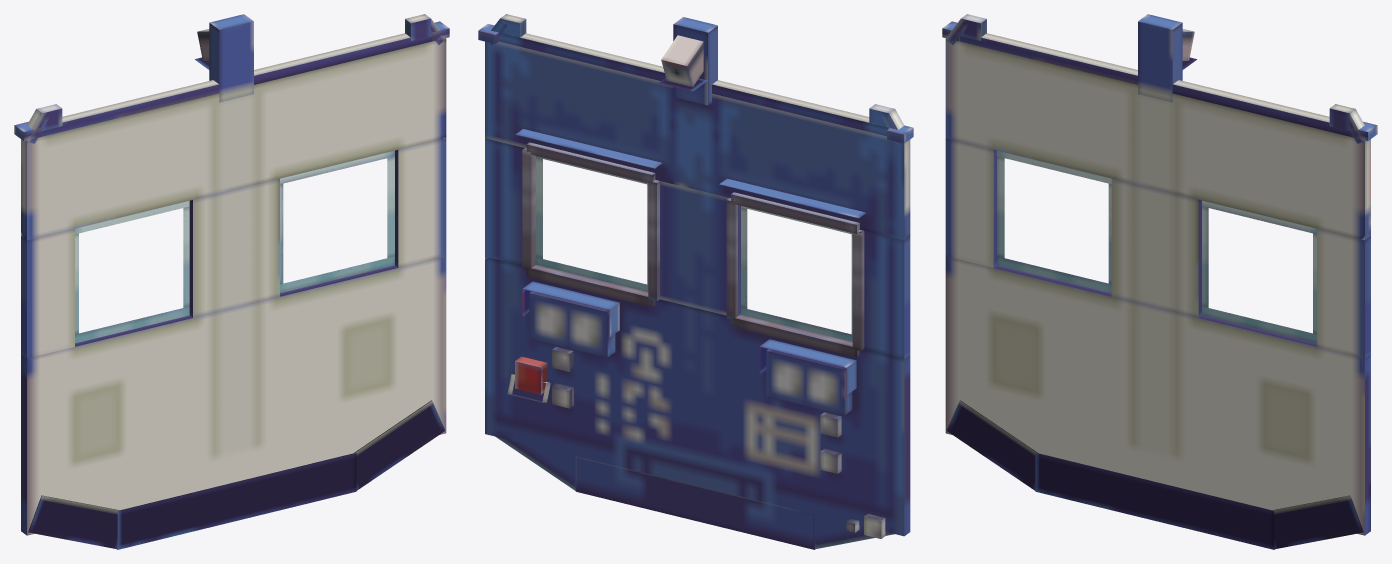
The model's file is wx980_observation_end_face.obj.
3 renders of one model, left to right at view 1: azimuth 30°, elevation 25°; view 2: azimuth 150°, elevation 25°; view 3: azimuth 330°, elevation 25°, orthographic.
Parts seen in each view (by area): view 1: part_13e14eea2fc5b3bd1c878c6f4f02fb04, part_95d271ab09b80f70eb5bf5b53d7d8fa3, part_246960b7077abc5fbbe4189bbcaef783, part_14e5bbe51570d55920448a34e4bcafd6, part_8d7903b85416265717b788e58cef0d7e, part_18315059514022a1d65d076d3893eff0, part_5669121c1c85f7cfb268c46f648c8152, part_887f7328d89781a85ab442d7b322ab2f, part_0cd804a13aa3ac24e2805aac868d3fbe, part_ace7490edaf1524cee174f8e30762293, part_810ca5fe32ab8f5691ad5ed03938f447, part_cc152daa841632e3762a56e1ef2b2881 (+5 smaller); view 2: part_13e14eea2fc5b3bd1c878c6f4f02fb04, part_95d271ab09b80f70eb5bf5b53d7d8fa3, part_14e5bbe51570d55920448a34e4bcafd6, part_246960b7077abc5fbbe4189bbcaef783, part_8d7903b85416265717b788e58cef0d7e, part_5669121c1c85f7cfb268c46f648c8152, part_18315059514022a1d65d076d3893eff0, part_30a6d0085b8288fa52eacd9205890ae9, part_b42220d7163ae48826592a89e5fc7c09, part_887f7328d89781a85ab442d7b322ab2f, part_74fc85454f847874855803dbeac64e0b, part_cde7ea4fcbe5bc1e458badfc85bbffe0 (+18 smaller); view 3: part_13e14eea2fc5b3bd1c878c6f4f02fb04, part_95d271ab09b80f70eb5bf5b53d7d8fa3, part_246960b7077abc5fbbe4189bbcaef783, part_14e5bbe51570d55920448a34e4bcafd6, part_18315059514022a1d65d076d3893eff0, part_8d7903b85416265717b788e58cef0d7e, part_5669121c1c85f7cfb268c46f648c8152, part_887f7328d89781a85ab442d7b322ab2f, part_ace7490edaf1524cee174f8e30762293, part_0cd804a13aa3ac24e2805aac868d3fbe, part_810ca5fe32ab8f5691ad5ed03938f447, part_cc152daa841632e3762a56e1ef2b2881 (+5 smaller).
Boxes of the visible parts, bbox=[...] form: part_13e14eea2fc5b3bd1c878c6f4f02fb04: bbox=[21, 256, 446, 535]; part_95d271ab09b80f70eb5bf5b53d7d8fa3: bbox=[21, 39, 446, 240]; part_246960b7077abc5fbbe4189bbcaef783: bbox=[189, 178, 279, 317]; part_14e5bbe51570d55920448a34e4bcafd6: bbox=[117, 453, 356, 549]; part_8d7903b85416265717b788e58cef0d7e: bbox=[21, 228, 74, 358]; part_18315059514022a1d65d076d3893eff0: bbox=[395, 138, 446, 267]; part_5669121c1c85f7cfb268c46f648c8152: bbox=[41, 33, 431, 136]; part_887f7328d89781a85ab442d7b322ab2f: bbox=[209, 14, 253, 102]; part_0cd804a13aa3ac24e2805aac868d3fbe: bbox=[353, 400, 445, 490]; part_ace7490edaf1524cee174f8e30762293: bbox=[28, 495, 119, 549]; part_810ca5fe32ab8f5691ad5ed03938f447: bbox=[75, 306, 189, 343]; part_cc152daa841632e3762a56e1ef2b2881: bbox=[280, 256, 394, 293]; part_13e14eea2fc5b3bd1c878c6f4f02fb04: bbox=[485, 256, 910, 536]; part_95d271ab09b80f70eb5bf5b53d7d8fa3: bbox=[485, 41, 910, 240]; part_14e5bbe51570d55920448a34e4bcafd6: bbox=[575, 456, 814, 549]; part_246960b7077abc5fbbe4189bbcaef783: bbox=[660, 181, 740, 315]; part_8d7903b85416265717b788e58cef0d7e: bbox=[859, 231, 910, 358]; part_5669121c1c85f7cfb268c46f648c8152: bbox=[499, 33, 888, 136]; part_18315059514022a1d65d076d3893eff0: bbox=[485, 138, 525, 265]; part_30a6d0085b8288fa52eacd9205890ae9: bbox=[766, 349, 852, 415]; part_b42220d7163ae48826592a89e5fc7c09: bbox=[529, 291, 615, 357]; part_887f7328d89781a85ab442d7b322ab2f: bbox=[673, 17, 717, 105]; part_74fc85454f847874855803dbeac64e0b: bbox=[731, 314, 859, 356]; part_cde7ea4fcbe5bc1e458badfc85bbffe0: bbox=[526, 265, 655, 306]; part_13e14eea2fc5b3bd1c878c6f4f02fb04: bbox=[945, 256, 1370, 535]; part_95d271ab09b80f70eb5bf5b53d7d8fa3: bbox=[945, 39, 1370, 240]; part_246960b7077abc5fbbe4189bbcaef783: bbox=[1111, 178, 1201, 317]; part_14e5bbe51570d55920448a34e4bcafd6: bbox=[1035, 453, 1274, 549]; part_18315059514022a1d65d076d3893eff0: bbox=[1317, 228, 1370, 358]; part_8d7903b85416265717b788e58cef0d7e: bbox=[945, 138, 996, 267]; part_5669121c1c85f7cfb268c46f648c8152: bbox=[960, 33, 1350, 136]; part_887f7328d89781a85ab442d7b322ab2f: bbox=[1138, 14, 1182, 102]; part_ace7490edaf1524cee174f8e30762293: bbox=[946, 400, 1038, 490]; part_0cd804a13aa3ac24e2805aac868d3fbe: bbox=[1272, 495, 1363, 549]; part_810ca5fe32ab8f5691ad5ed03938f447: bbox=[997, 256, 1111, 293]; part_cc152daa841632e3762a56e1ef2b2881: bbox=[1202, 306, 1316, 343].
Bounding box in the file's own units: 3.06 × 3.4 × 0.3356.
